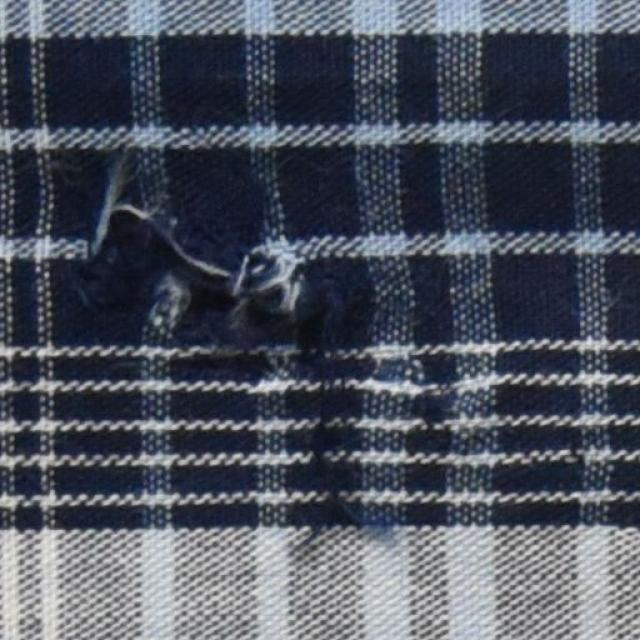Snag: (60, 169, 366, 378)
